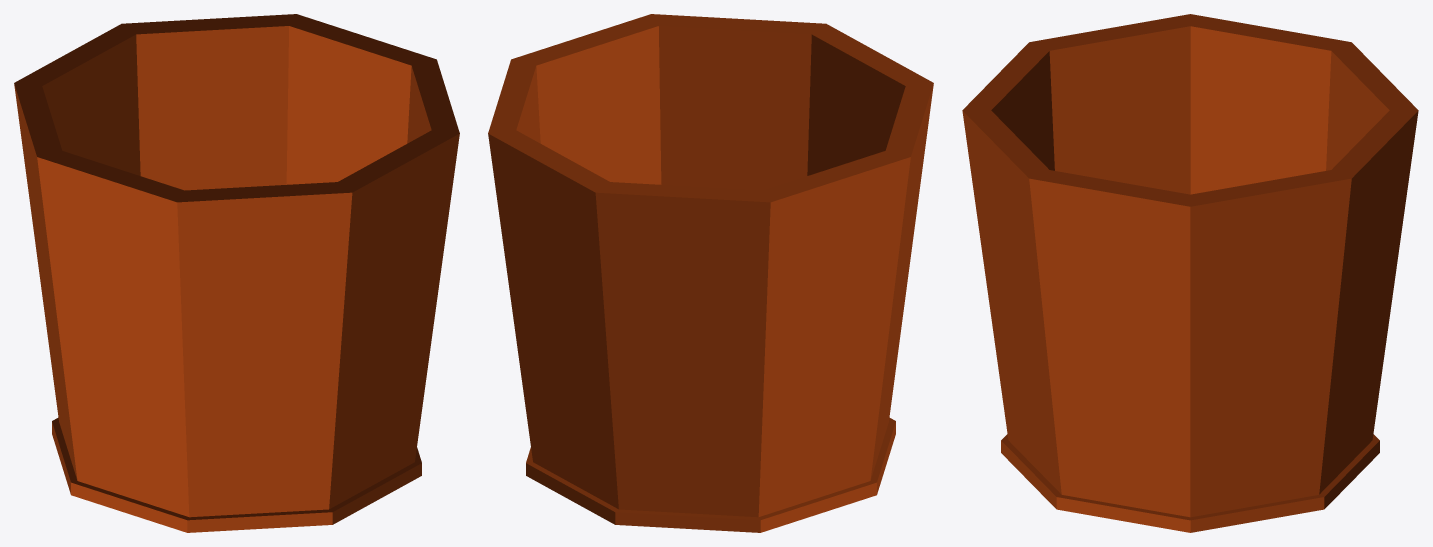
Rendered from Hexagonal Cup 2.fbx.
3 renders of one model, left to right at view 1: azimuth 30°, elevation 25°; view 2: azimuth 150°, elevation 25°; view 3: azimuth 270°, elevation 25°, orthographic.
Parts seen in each view (by area): view 1: Node 0; view 2: Node 0; view 3: Node 0.
Part boxes in pixels (bbox=[...]): Node 0: bbox=[14, 14, 459, 532]; Node 0: bbox=[488, 14, 933, 532]; Node 0: bbox=[962, 14, 1418, 532].
Bounding box in the file's own units: 0.1873 × 0.1552 × 0.1873.
